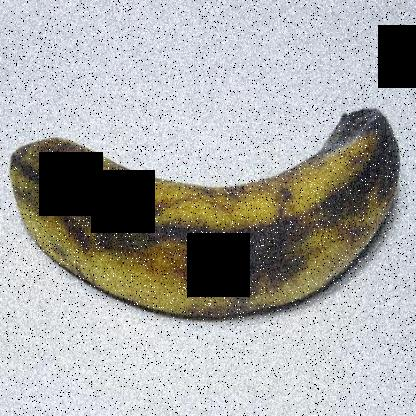overripe: (2, 85, 401, 350)
